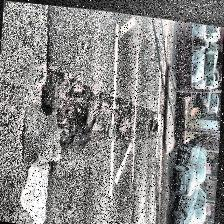pothole: (56, 93, 94, 148)
